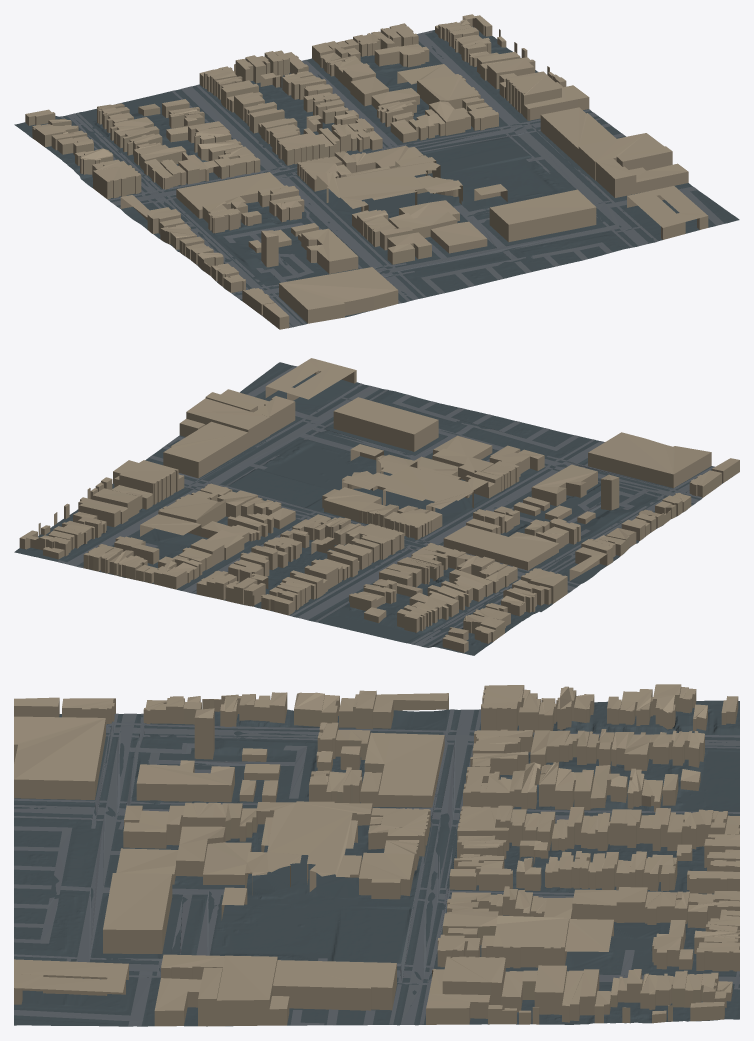
File: epsg26910-1436-10883.lod0.glb
3 renders of one model, top to bottom at view 1: azimuth 30°, elevation 25°; view 2: azimuth 150°, elevation 25°; view 3: azimuth 270°, elevation 25°, orthographic. The views are drawn at different scales.
Visible parts, largest first — view 1: epsg26910-1436-10883-lod0; view 2: epsg26910-1436-10883-lod0; view 3: epsg26910-1436-10883-lod0.
Boxes of the visible parts, <box> form: epsg26910-1436-10883-lod0: <box>14,14,739,329</box>; epsg26910-1436-10883-lod0: <box>14,358,739,655</box>; epsg26910-1436-10883-lod0: <box>14,684,739,1026</box>.
Bounding box in the file's own units: 384 × 29.15 × 384.
